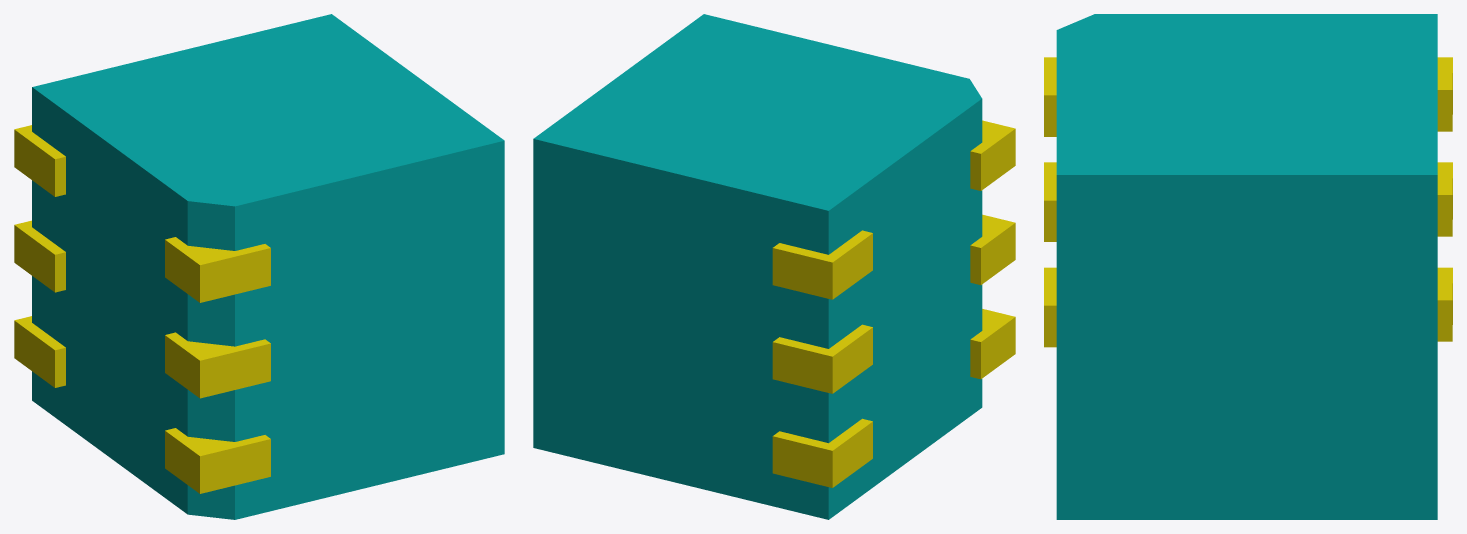
Rendered from 1Right Connect blueyellow.fbx.
The picture shows the model from 3 angles, left to right: view 1: azimuth 30°, elevation 25°; view 2: azimuth 150°, elevation 25°; view 3: azimuth 270°, elevation 25°; orthographic projection. The views are drawn at different scales.
Parts seen in each view (by area): view 1: pCube2, pCube4, pCube5, pCube3, pCube6, pCube8, pCube7; view 2: pCube2, pCube8, pCube6, pCube7, pCube4, pCube3, pCube5; view 3: pCube2, pCube6, pCube8, pCube7, pCube5, pCube3, pCube4.
Part boxes in pixels (left/top/right/bottom): pCube2: left=32, top=14, right=504, bottom=519; pCube4: left=165, top=332, right=270, bottom=398; pCube5: left=165, top=428, right=270, bottom=493; pCube3: left=165, top=237, right=270, bottom=302; pCube6: left=14, top=220, right=65, bottom=292; pCube8: left=14, top=125, right=65, bottom=196; pCube7: left=14, top=316, right=65, bottom=387; pCube2: left=533, top=14, right=982, bottom=519; pCube8: left=772, top=230, right=872, bottom=299; pCube6: left=772, top=324, right=872, bottom=393; pCube7: left=772, top=418, right=872, bottom=487; pCube4: left=970, top=214, right=1015, bottom=285; pCube3: left=970, top=120, right=1015, bottom=190; pCube5: left=970, top=309, right=1015, bottom=379; pCube2: left=1056, top=14, right=1437, bottom=519; pCube6: left=1437, top=162, right=1452, bottom=236; pCube8: left=1437, top=57, right=1452, bottom=131; pCube7: left=1437, top=267, right=1452, bottom=341; pCube5: left=1044, top=267, right=1056, bottom=347; pCube3: left=1044, top=57, right=1056, bottom=136; pCube4: left=1044, top=162, right=1056, bottom=241.
Bounding box in the file's own units: 2.07 × 2 × 2.15.
